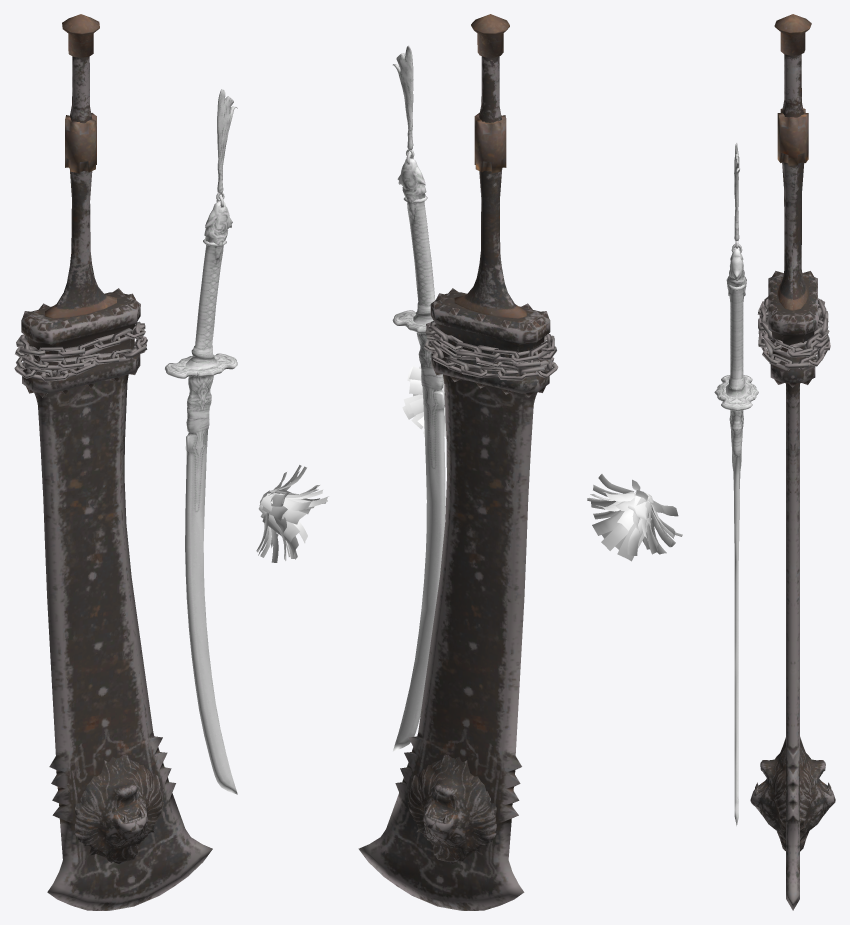
Rendered from Sword Feather.fbx.
The picture shows the model from 3 angles, left to right: view 1: azimuth 30°, elevation 25°; view 2: azimuth 150°, elevation 25°; view 3: azimuth 270°, elevation 25°; orthographic projection. The views are drawn at different scales.
Parts seen in each view (by area): view 1: 24_-WeaponBack|Long.pt1_1_0_0, 24_-WeaponBack|Short.pt1_1_0_0, 25_feather_1_0_0.004; view 2: 24_-WeaponBack|Long.pt1_1_0_0, 24_-WeaponBack|Short.pt1_1_0_0, 25_feather_1_0_0.004; view 3: 24_-WeaponBack|Long.pt1_1_0_0, 24_-WeaponBack|Short.pt1_1_0_0, 25_feather_1_0_0.004.
Part boxes in pixels (bbox=[...]): 24_-WeaponBack|Long.pt1_1_0_0: bbox=[14, 14, 212, 910]; 24_-WeaponBack|Short.pt1_1_0_0: bbox=[165, 89, 237, 794]; 25_feather_1_0_0.004: bbox=[256, 465, 328, 562]; 24_-WeaponBack|Long.pt1_1_0_0: bbox=[358, 14, 558, 910]; 24_-WeaponBack|Short.pt1_1_0_0: bbox=[392, 45, 445, 751]; 25_feather_1_0_0.004: bbox=[402, 364, 446, 436]; 24_-WeaponBack|Long.pt1_1_0_0: bbox=[750, 14, 835, 910]; 24_-WeaponBack|Short.pt1_1_0_0: bbox=[714, 142, 758, 825]; 25_feather_1_0_0.004: bbox=[587, 474, 682, 561].
Size of the model in its own units: 80.81 by 316 by 82.44.
Materials: 3 (3 with a texture image).
